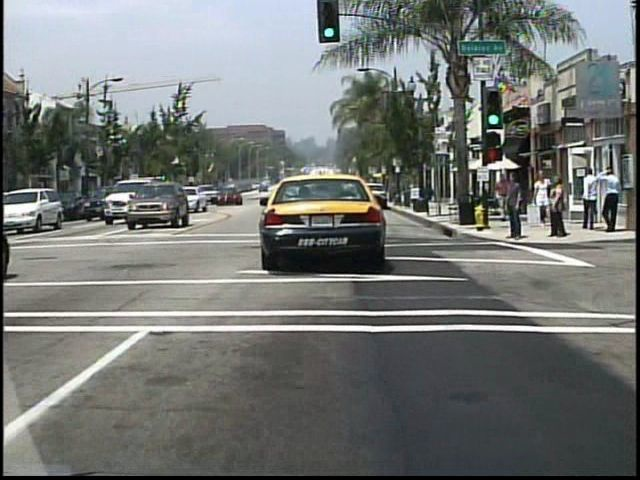person: (594, 167, 622, 234), (578, 164, 598, 231), (507, 172, 526, 241), (552, 175, 571, 239), (532, 172, 552, 229), (493, 173, 511, 224)
